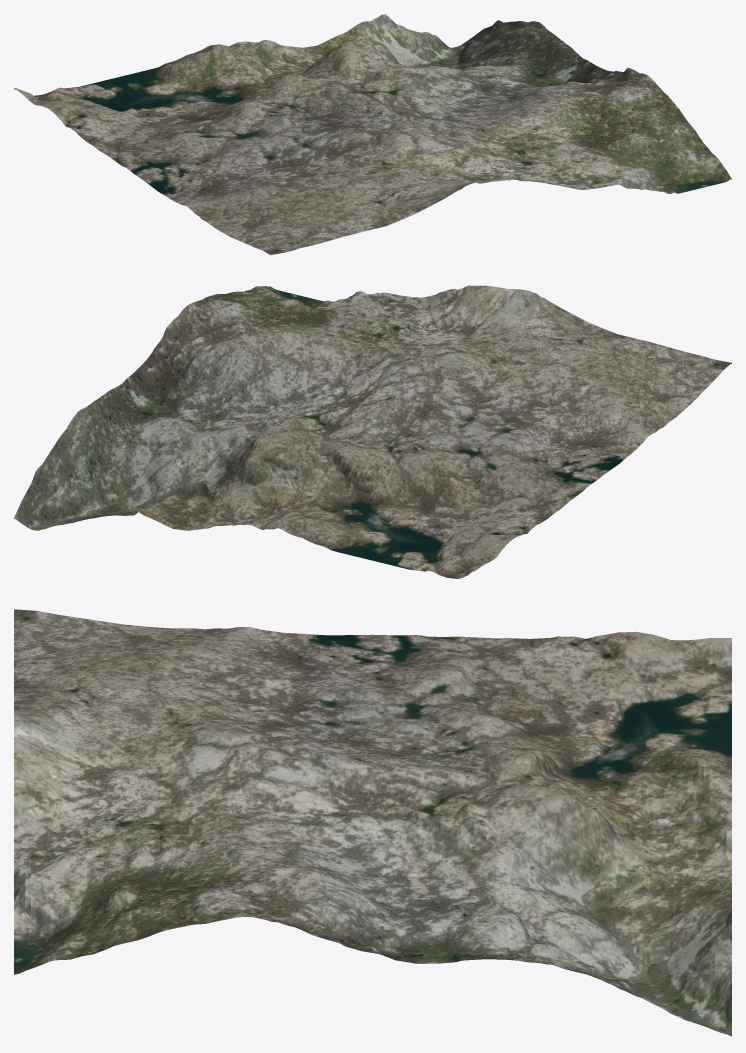
3 renders of one model, top to bottom at view 1: azimuth 30°, elevation 25°; view 2: azimuth 150°, elevation 25°; view 3: azimuth 270°, elevation 25°, orthographic. The views are drawn at different scales.
Size of the model in its own units: 2000 by 461 by 1925.
Materials: 1 (1 with a texture image).
